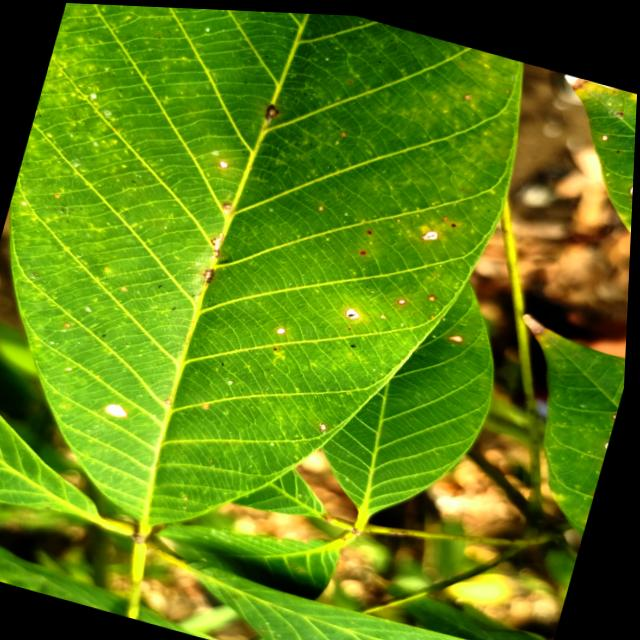Colletotrichum: (346, 302, 364, 318), (423, 224, 441, 239), (279, 324, 290, 333), (220, 158, 231, 167), (399, 293, 409, 302)
